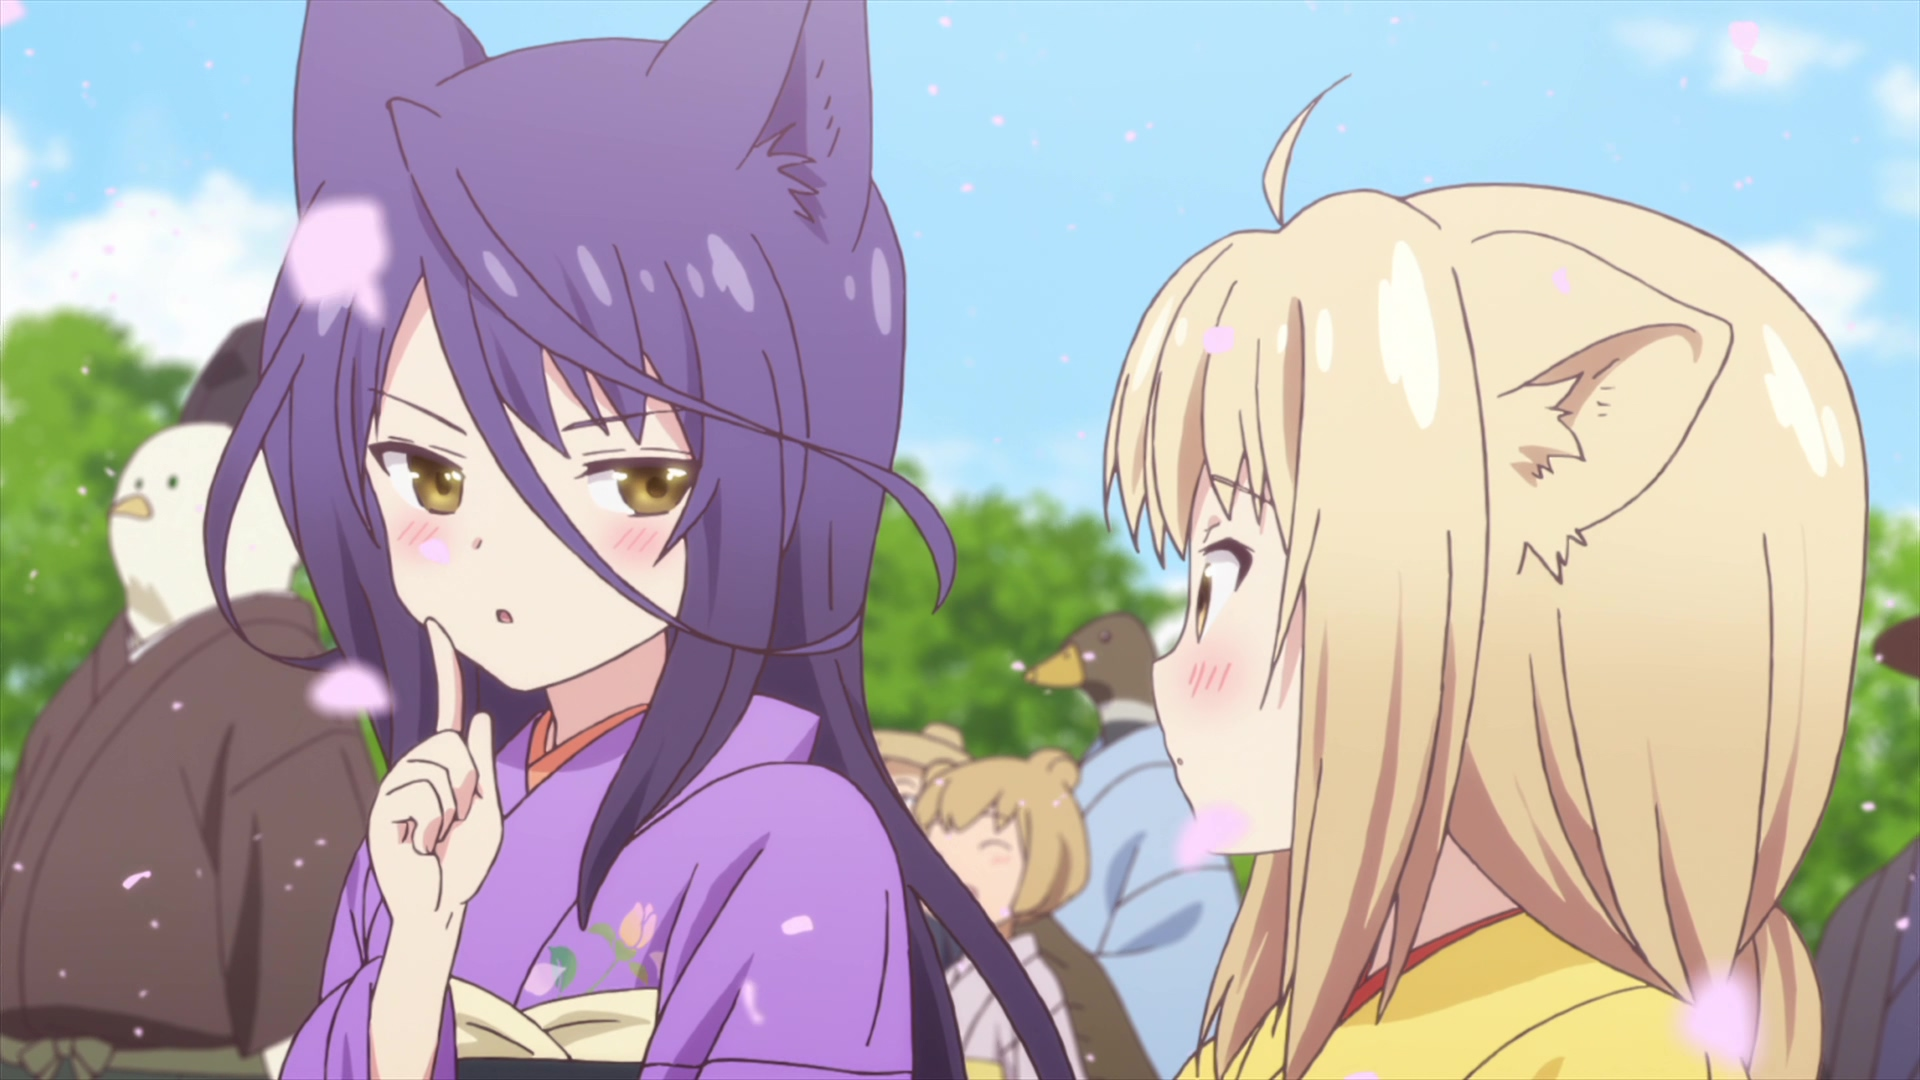其他: (1, 320, 381, 1080), (1023, 615, 1238, 1080), (909, 749, 1088, 1080)
柚: (1106, 75, 1867, 1080)
皋: (200, 1, 1069, 1080)
